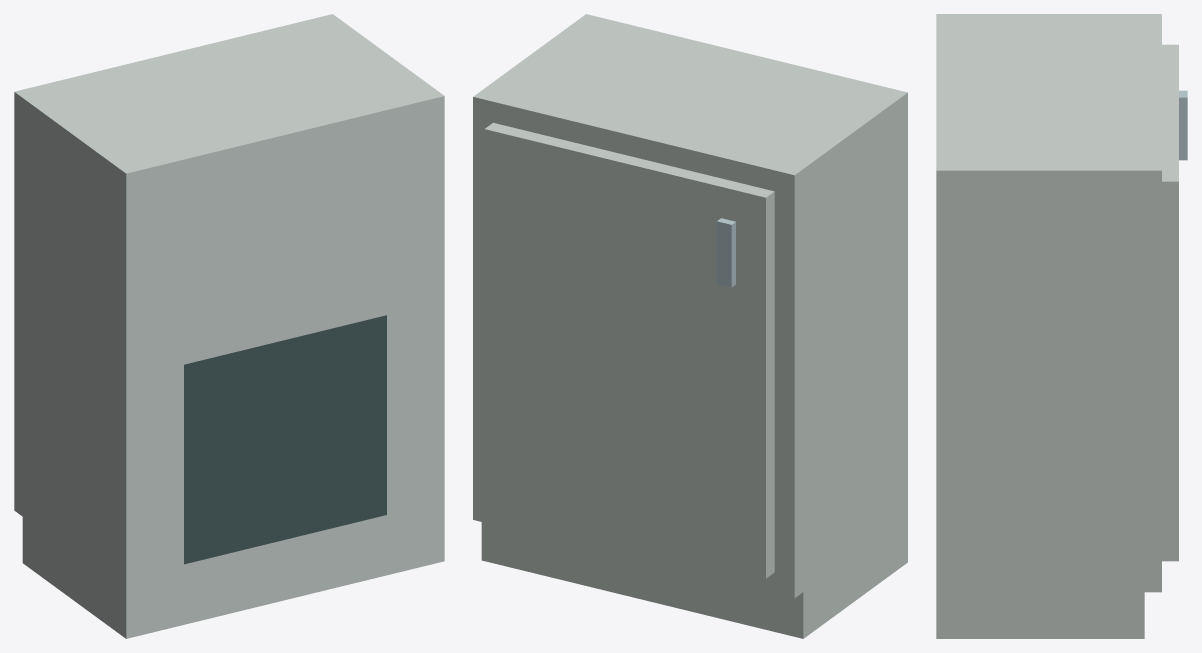
File: KitchenFridgeSmall.glb
3 views of the same model, side by side, from view 1: azimuth 30°, elevation 25°; view 2: azimuth 150°, elevation 25°; view 3: azimuth 270°, elevation 25° (orthographic).
Visible parts, largest first — view 1: kitchenFridgeSmall; view 2: kitchenFridgeSmall, doorFridge; view 3: kitchenFridgeSmall, doorFridge.
Part boxes in pixels (x1=…): kitchenFridgeSmall: x1=14, y1=14, x2=444, y2=638; kitchenFridgeSmall: x1=473, y1=14, x2=907, y2=638; doorFridge: x1=484, y1=122, x2=774, y2=578; kitchenFridgeSmall: x1=936, y1=14, x2=1161, y2=638; doorFridge: x1=1162, y1=44, x2=1187, y2=561.
Bounding box in the file's own units: 0.43 × 0.6002 × 0.2919.
